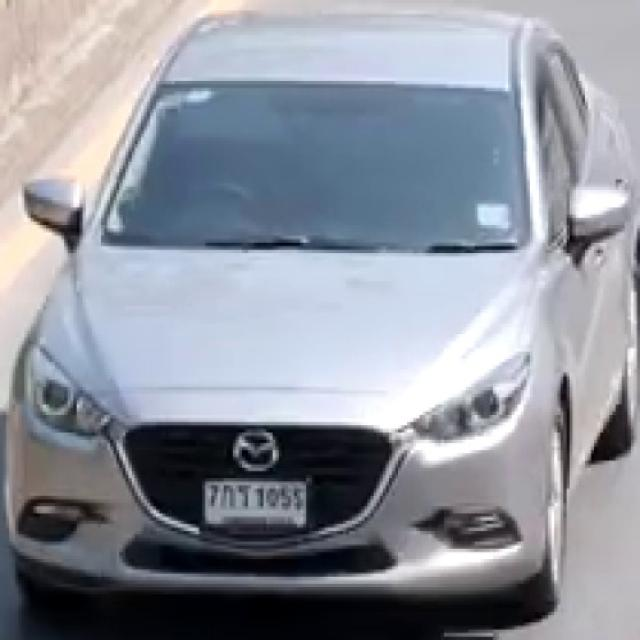plate: (202, 478, 306, 527)
